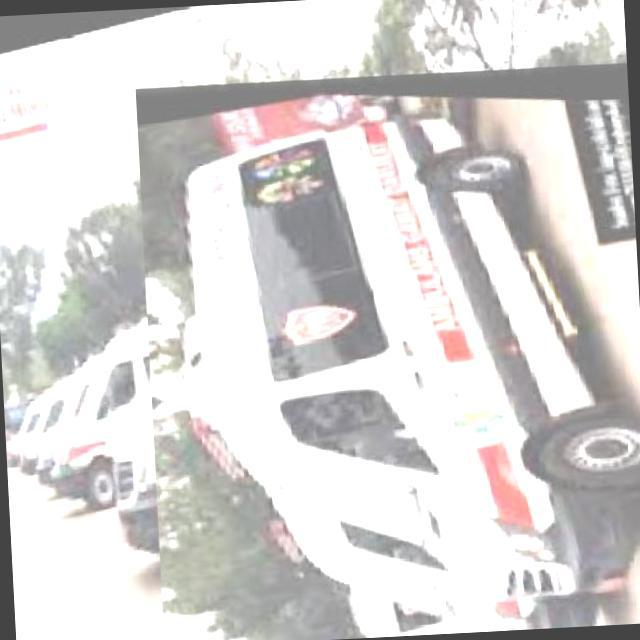emergency-vehicle: (119, 78, 640, 640)
